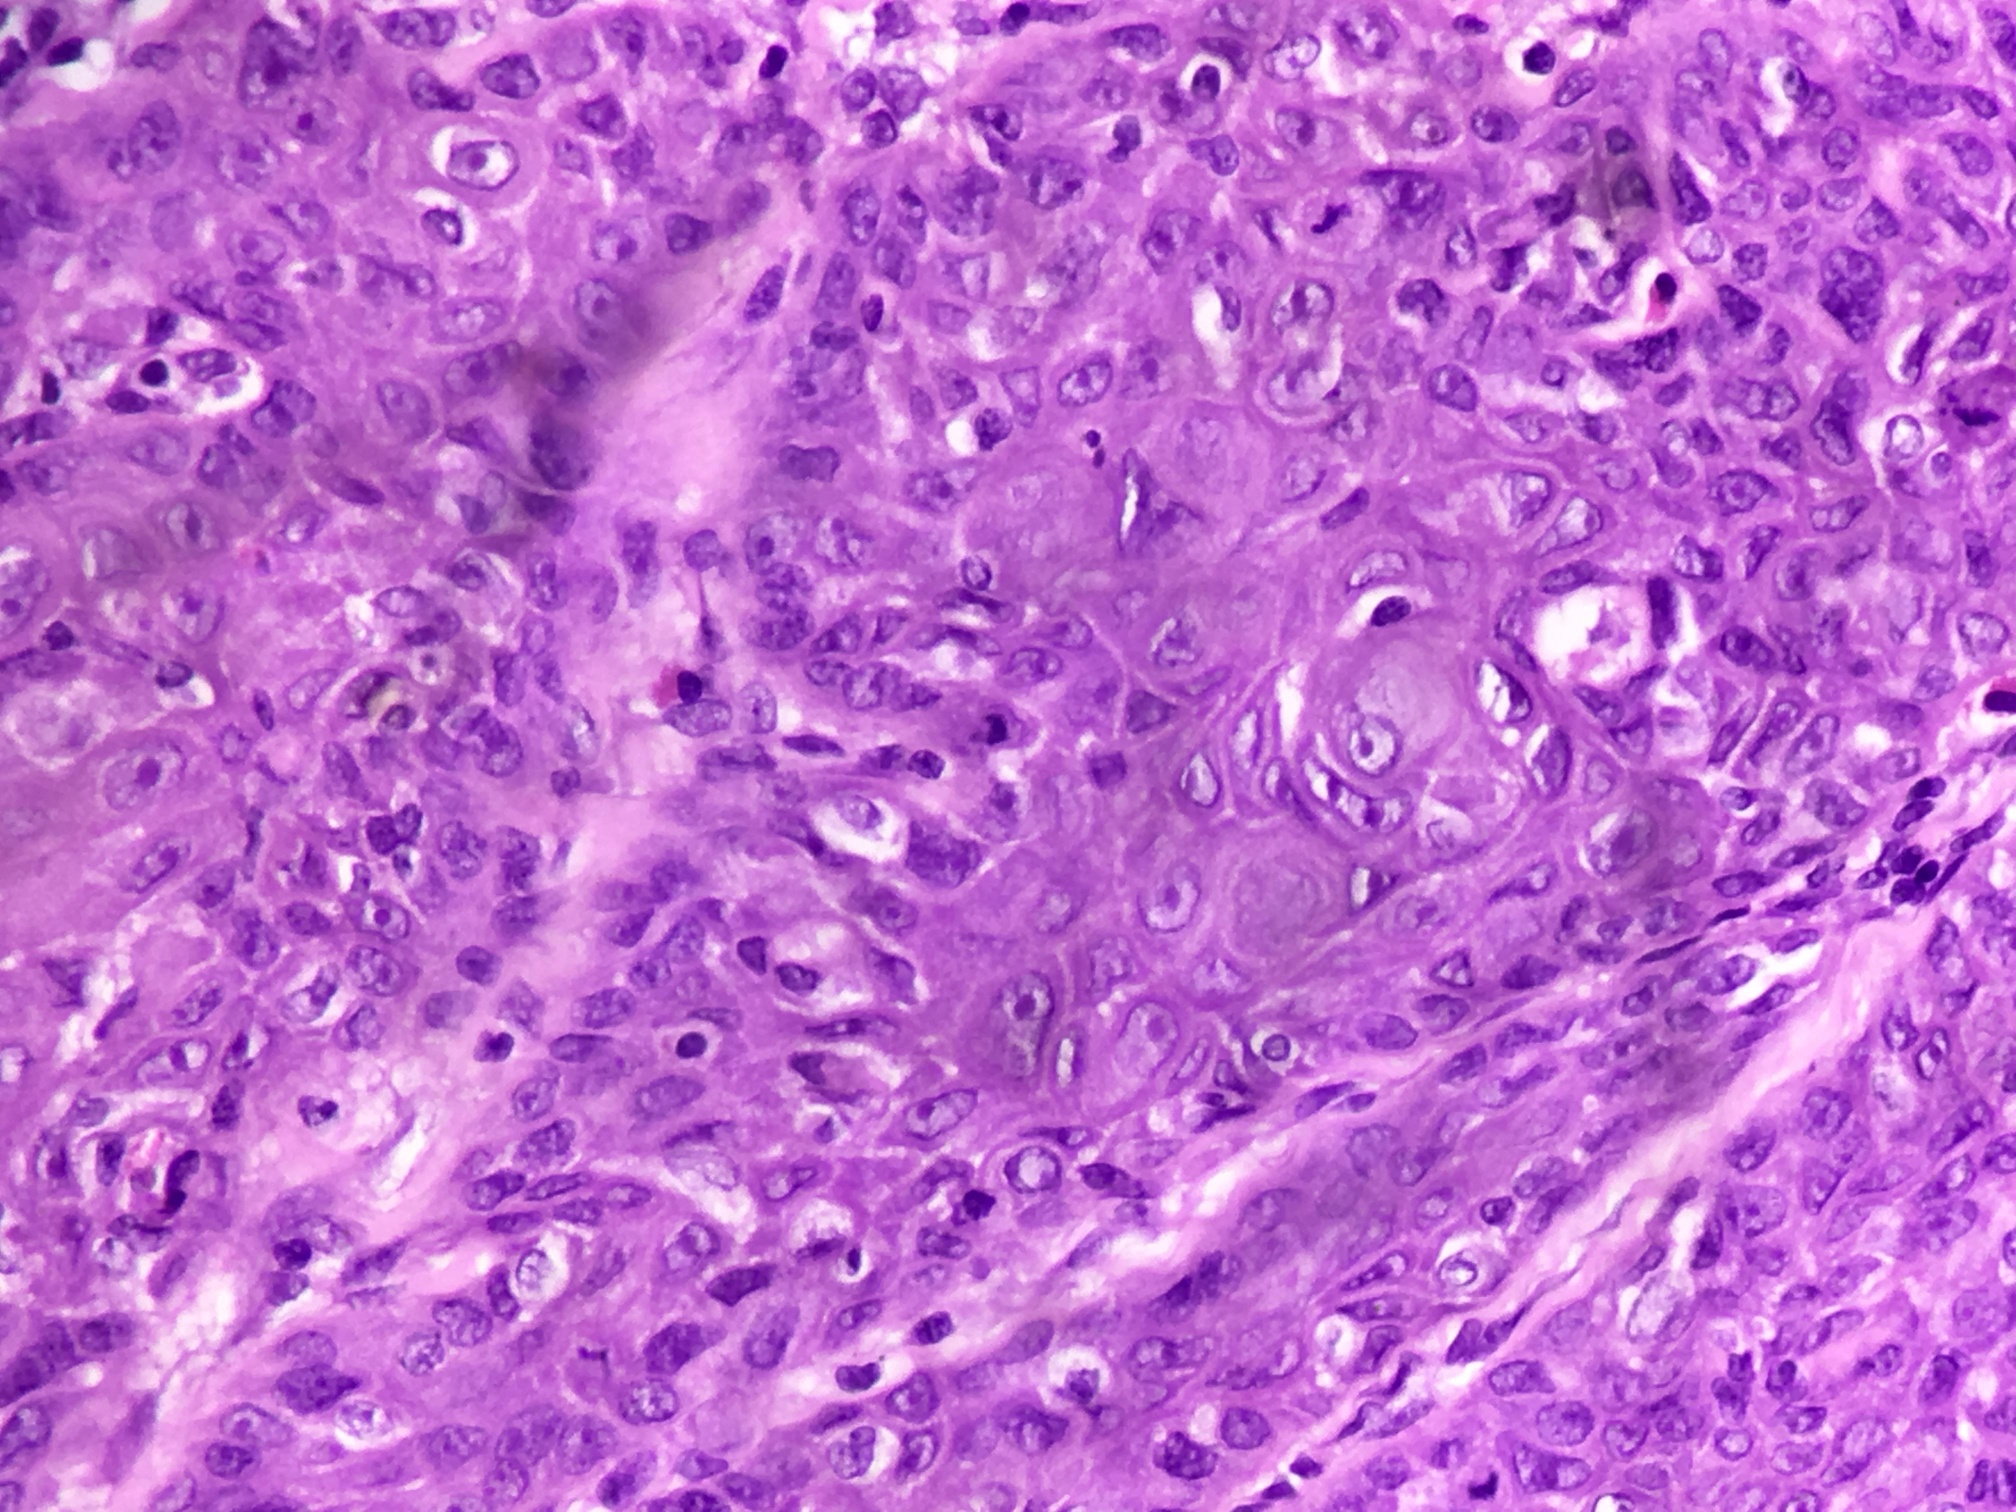mitotic: (935, 667, 1059, 791), (1418, 1409, 1525, 1512)
